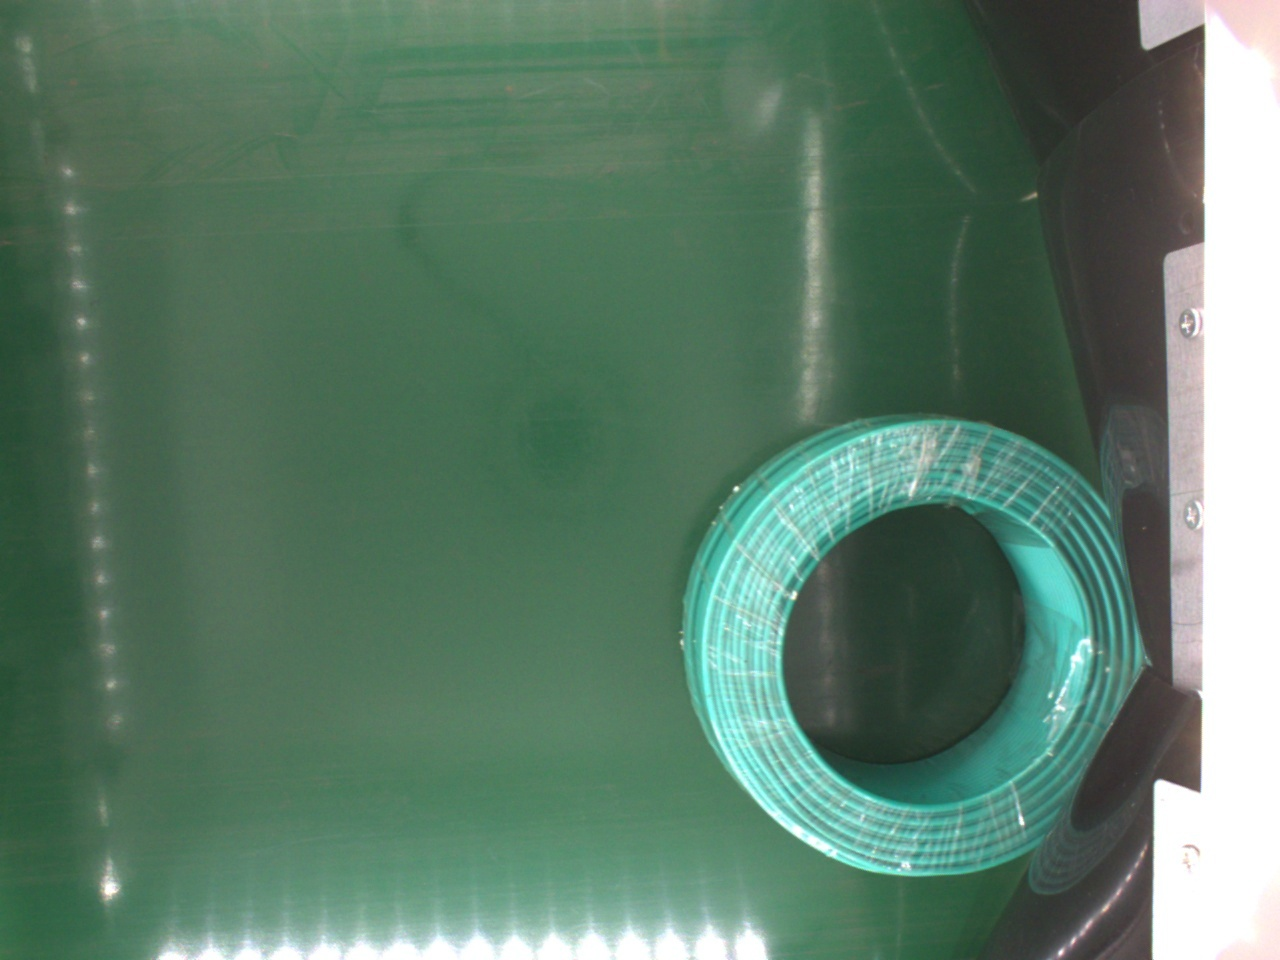green: (677, 408, 1133, 885)
